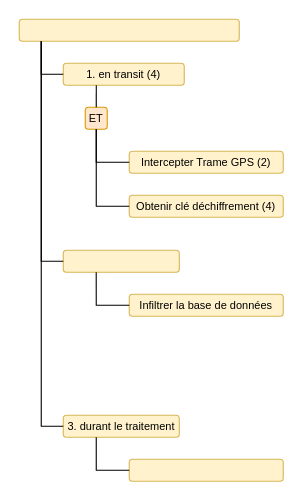
The diagram is 303 pixels wide and 501 high, and some of its shapes have lost their labels. The centre of each missing label's shape, as x and y in pixels:
2. au repos: the point at 120,260
Accéder au serveur d'écoute: the point at 205,469
Vol de données de géolocalisation: the point at 128,29
